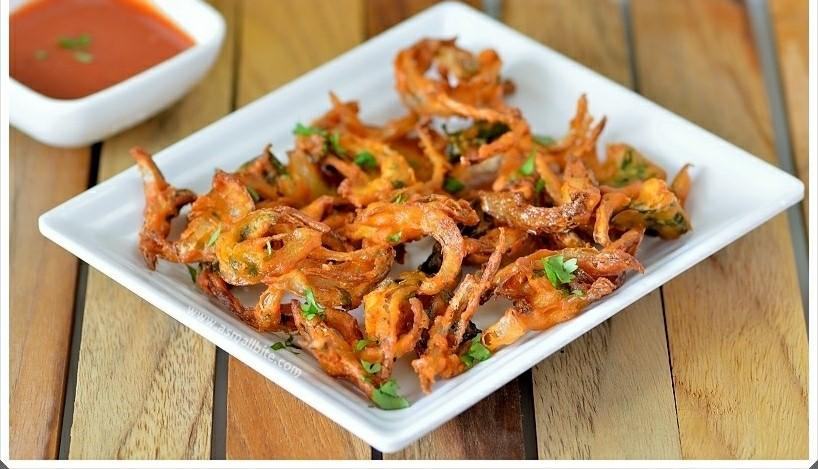OnionPakoda: (126, 31, 701, 406)
